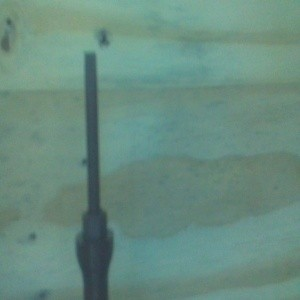obeng: (74, 52, 115, 300)
